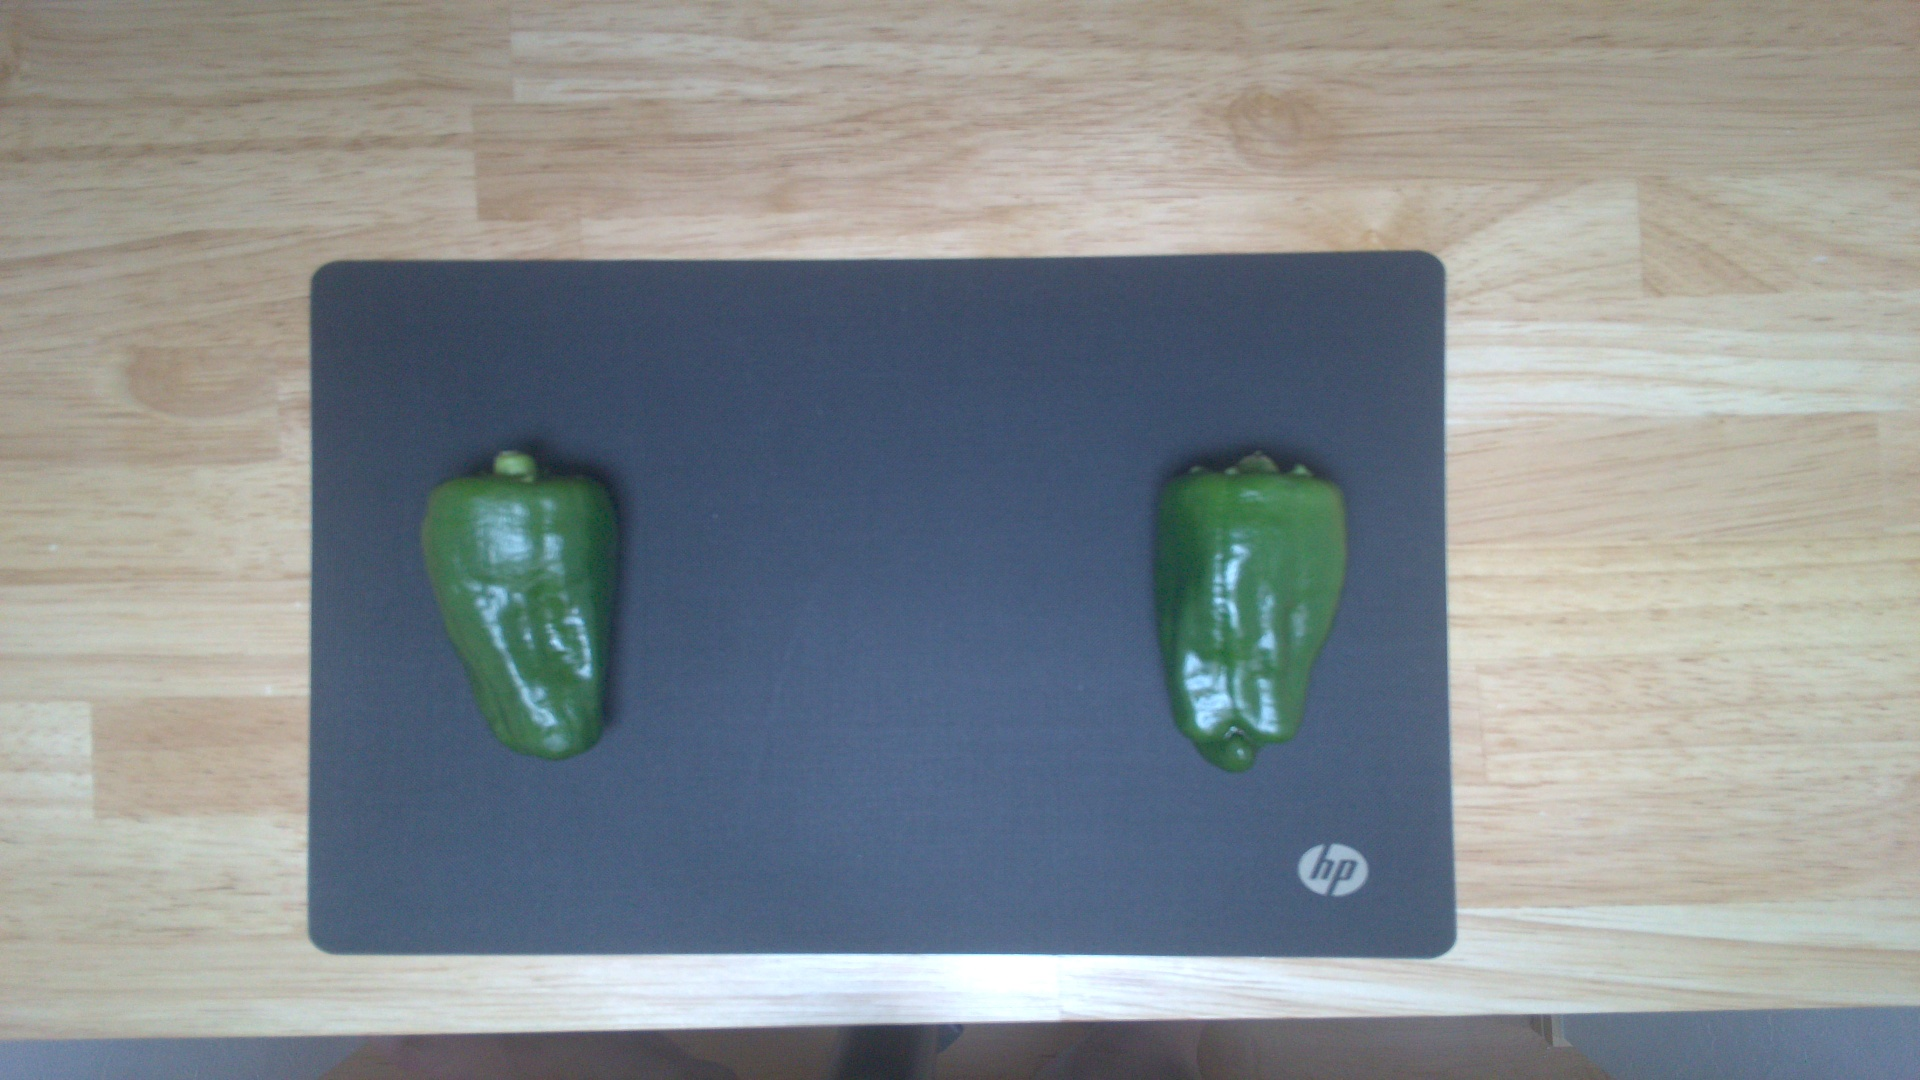Piman: (419, 446, 625, 764), (1151, 446, 1352, 769)
